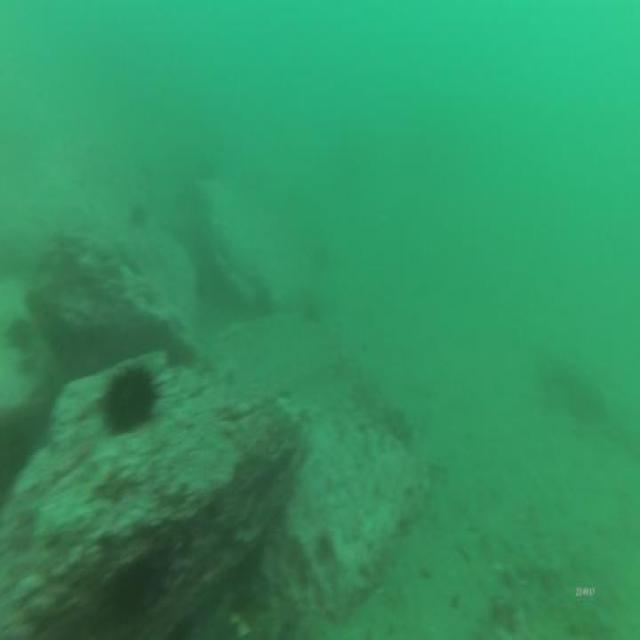echinus: (100, 357, 164, 438), (4, 314, 36, 356), (124, 199, 150, 236)
